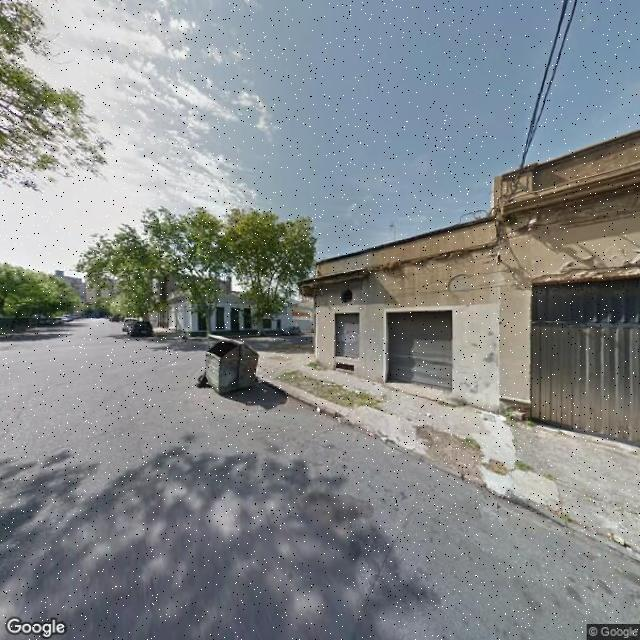garbage container: (195, 336, 271, 401)
